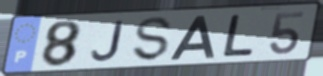5: (268, 10, 308, 56)
8: (39, 19, 84, 69)
A: (168, 14, 217, 62)
J: (89, 19, 126, 63)
L: (220, 13, 256, 58)
S: (132, 16, 174, 63)
